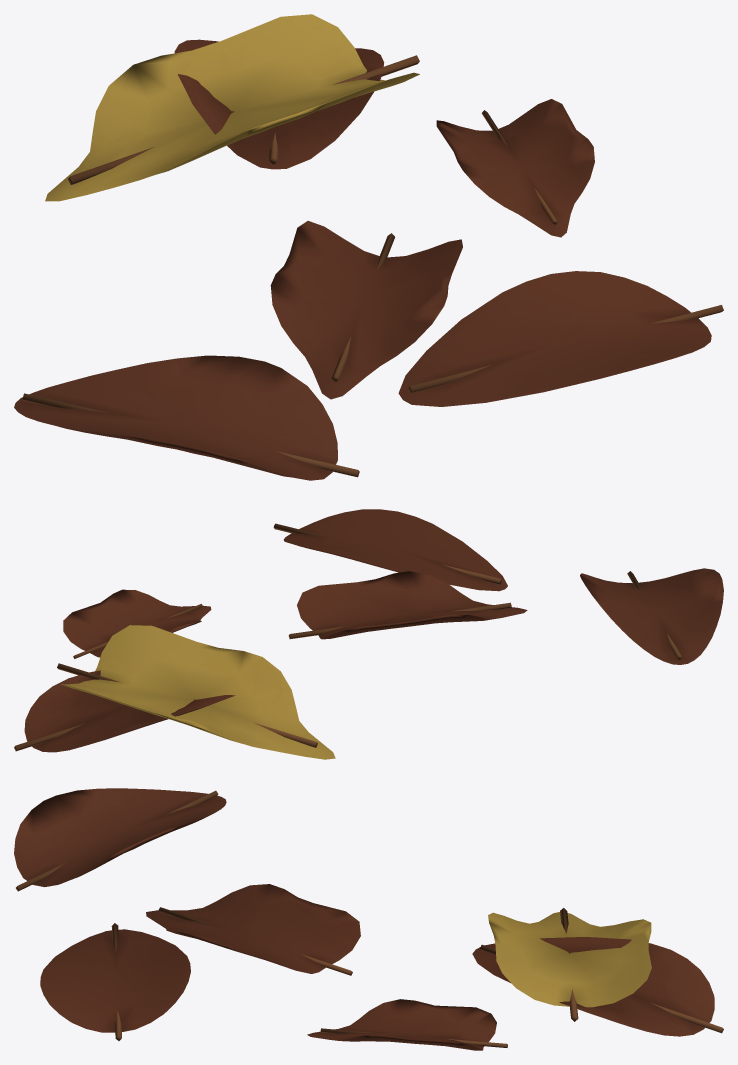
File: mire_gc_leaves_b.glb
The picture shows the model from 3 angles, top to bottom: view 1: azimuth 30°, elevation 25°; view 2: azimuth 150°, elevation 25°; view 3: azimuth 270°, elevation 25°; orthographic projection. The views are drawn at different scales.
Visible parts, largest first — view 1: mire_gc_leaves_b; view 2: mire_gc_leaves_b; view 3: mire_gc_leaves_b.
Boxes of the visible parts, bbox=[...] form: mire_gc_leaves_b: bbox=[14, 14, 723, 480]; mire_gc_leaves_b: bbox=[14, 509, 723, 759]; mire_gc_leaves_b: bbox=[14, 788, 723, 1050].
Size of the model in its own units: 4.29 by 0.4656 by 4.95.
